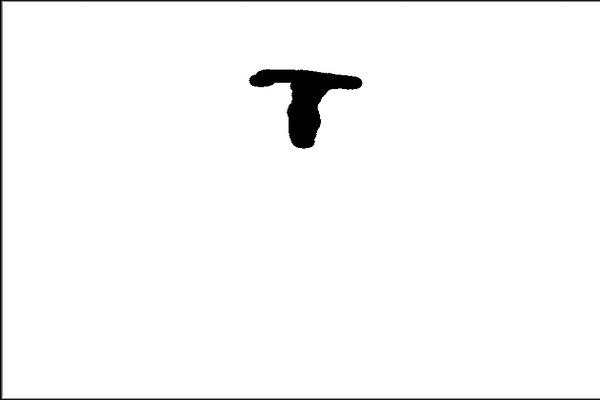T: (244, 61, 370, 155)
